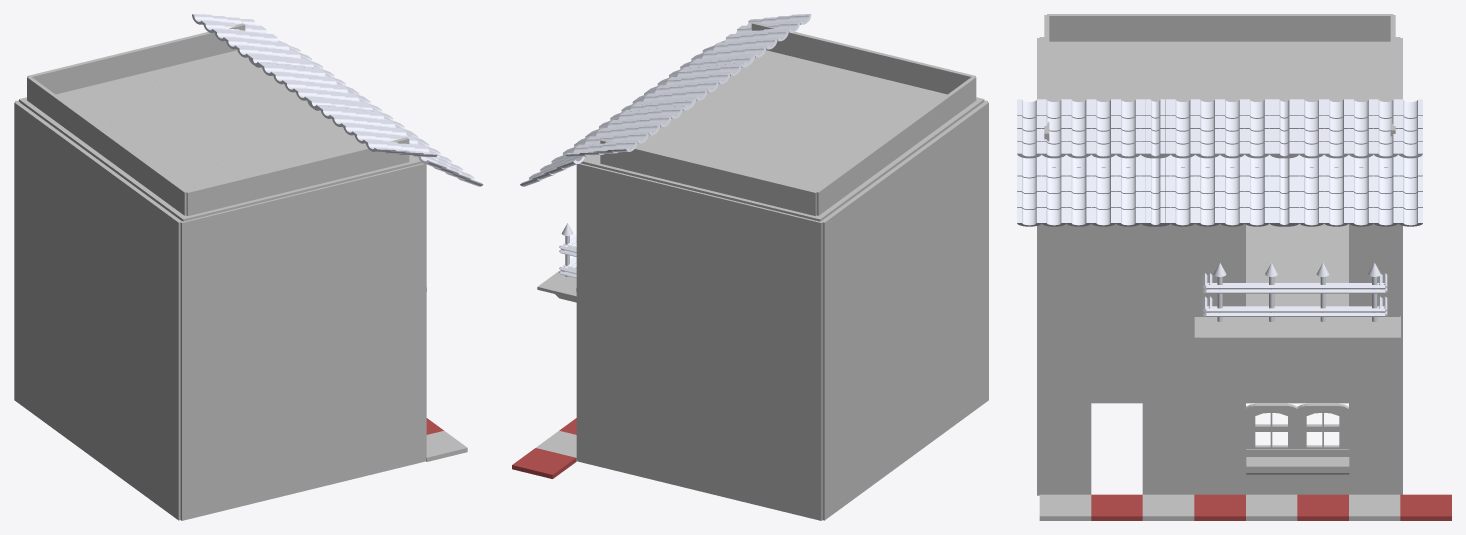
File: bloc ld.glb
The picture shows the model from 3 angles, left to right: view 1: azimuth 30°, elevation 25°; view 2: azimuth 150°, elevation 25°; view 3: azimuth 270°, elevation 25°; orthographic projection. The views are drawn at different scales.
Parts seen in each view (by area): view 1: mur (×109), cube.proto (×25); view 2: mur (×109), cube.proto (×26), balcon; view 3: mur (×41), cube.proto (×37), cylinderHollow_half (×14), balcon (×6), window2 (×2), cross (×4).
Part boxes in pixels (x1,y1,x2,y2): mur (×109): (14,32,425,520); cube.proto (×25): (64,53,467,461); mur (×109): (577,32,988,520); cube.proto (×26): (512,53,938,478); balcon: (537,270,577,302); mur (×41): (1039,14,1400,494); cube.proto (×37): (1039,37,1451,520); cylinderHollow_half (×14): (1017,155,1422,178); balcon (×6): (1194,316,1400,474); window2 (×2): (1246,403,1348,449); cross (×4): (1246,283,1348,316).
Size of the model in its own units: 7.24 by 7.87 by 8.44.
